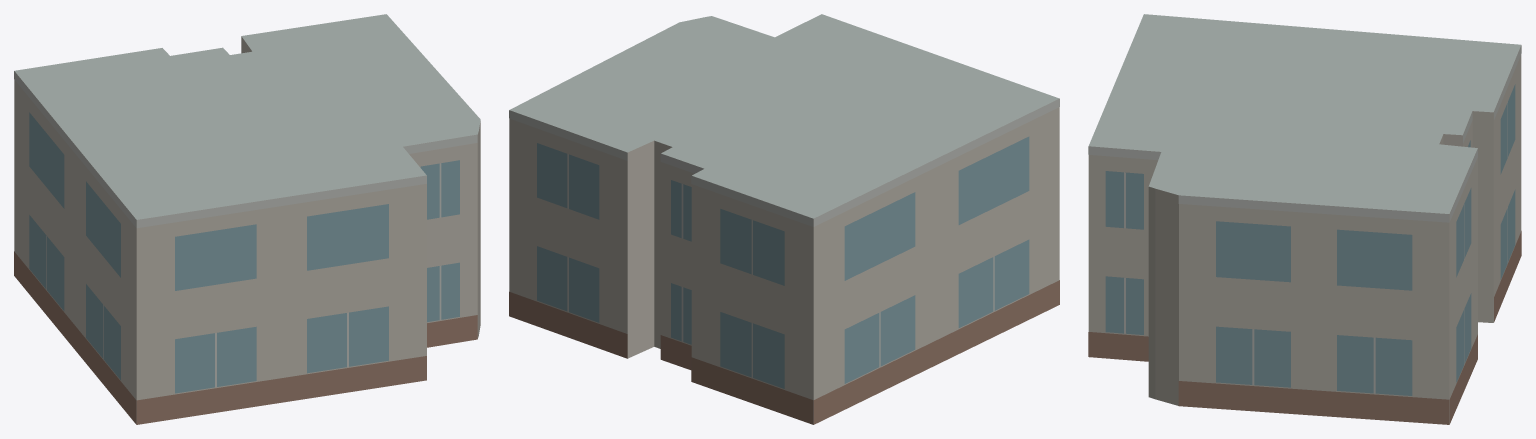
File: survey-upis-32470936.glb
3 views of the same model, side by side, from view 1: azimuth 30°, elevation 25°; view 2: azimuth 150°, elevation 25°; view 3: azimuth 270°, elevation 25° (orthographic). The views are drawn at different scales.
Parts seen in each view (by area): view 1: survey-upis-32470936.tmp; view 2: survey-upis-32470936.tmp; view 3: survey-upis-32470936.tmp.
Part boxes in pixels (<box>): survey-upis-32470936.tmp: <box>14,14,480,424</box>; survey-upis-32470936.tmp: <box>509,14,1059,424</box>; survey-upis-32470936.tmp: <box>1088,14,1521,424</box>.
Bounding box in the file's own units: 11.61 × 5.7 × 10.62.
